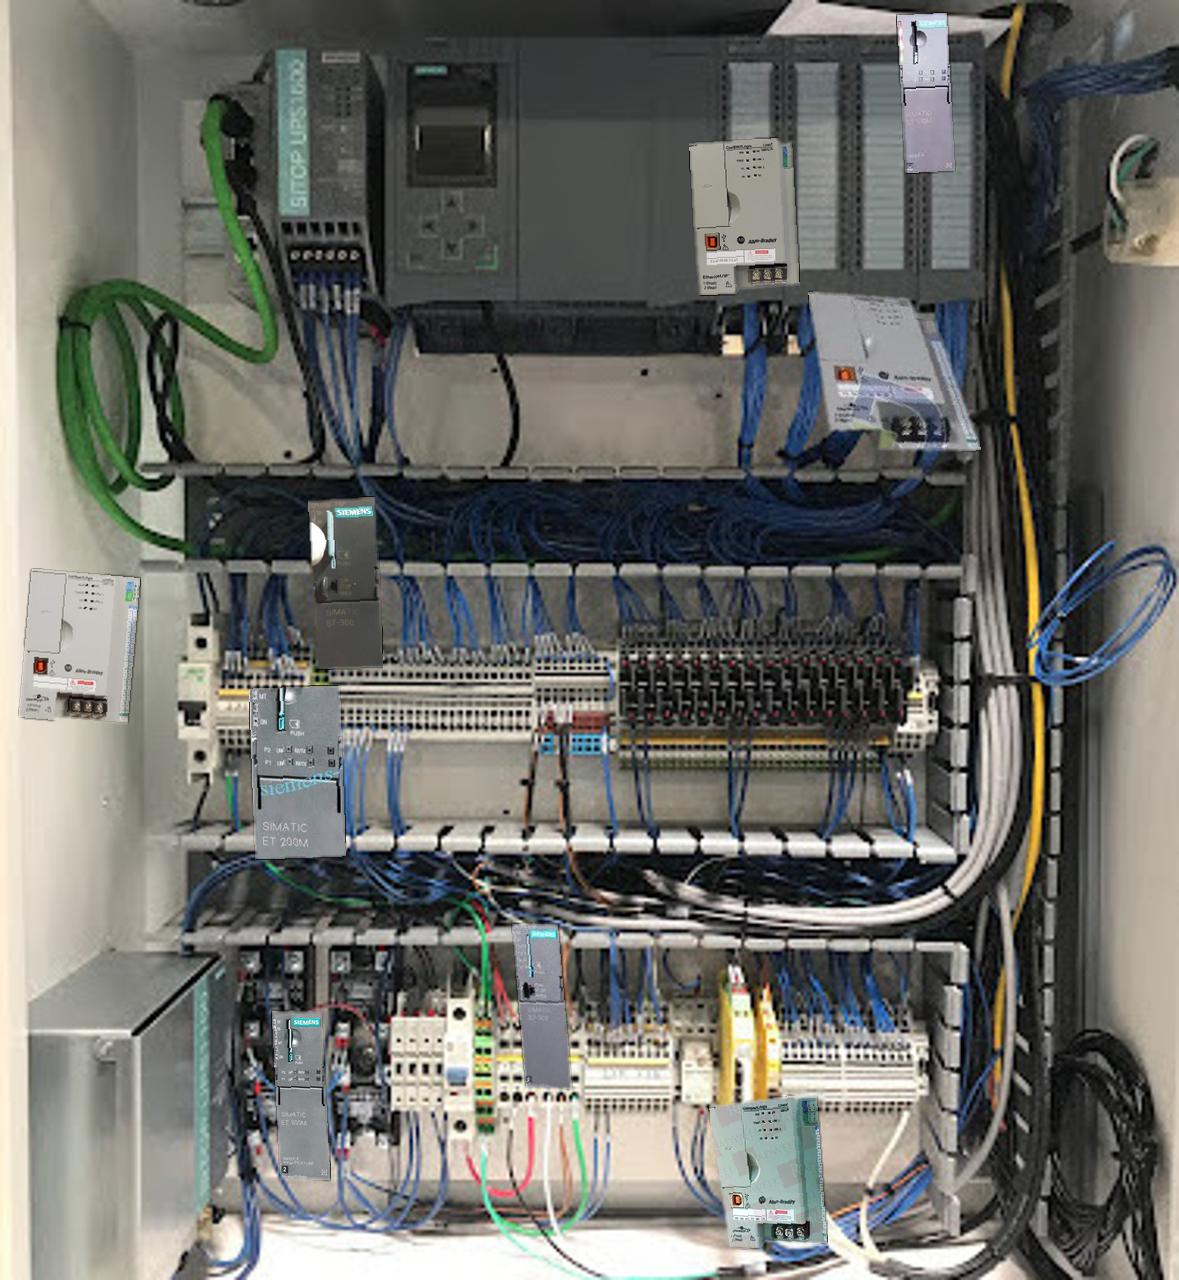AllenBradley: (808, 292, 980, 450), (20, 570, 139, 723), (709, 1096, 827, 1247), (689, 138, 799, 294)
Siemens: (308, 497, 381, 668), (513, 923, 570, 1088)
